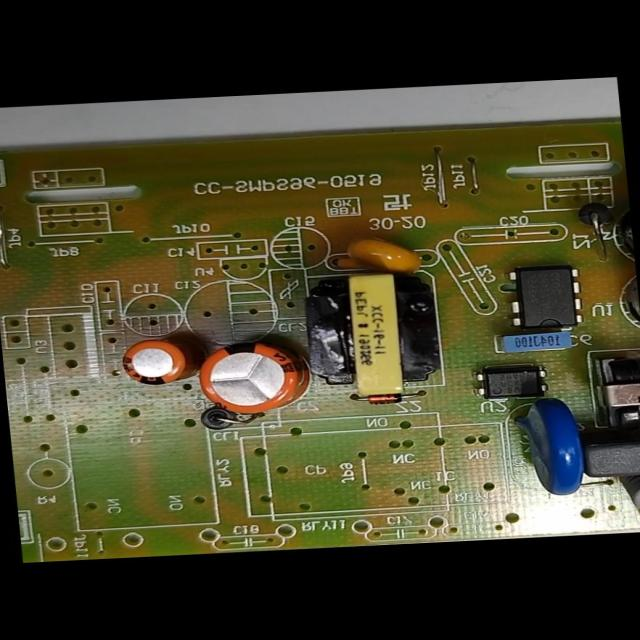Cap1: (185, 332, 311, 422)
Cap2: (113, 332, 203, 393)
MOSFET: (496, 259, 588, 336)
Mov: (505, 390, 594, 502)
Resistor: (608, 471, 639, 525)
Transformer: (294, 265, 448, 403), (582, 352, 639, 438)
